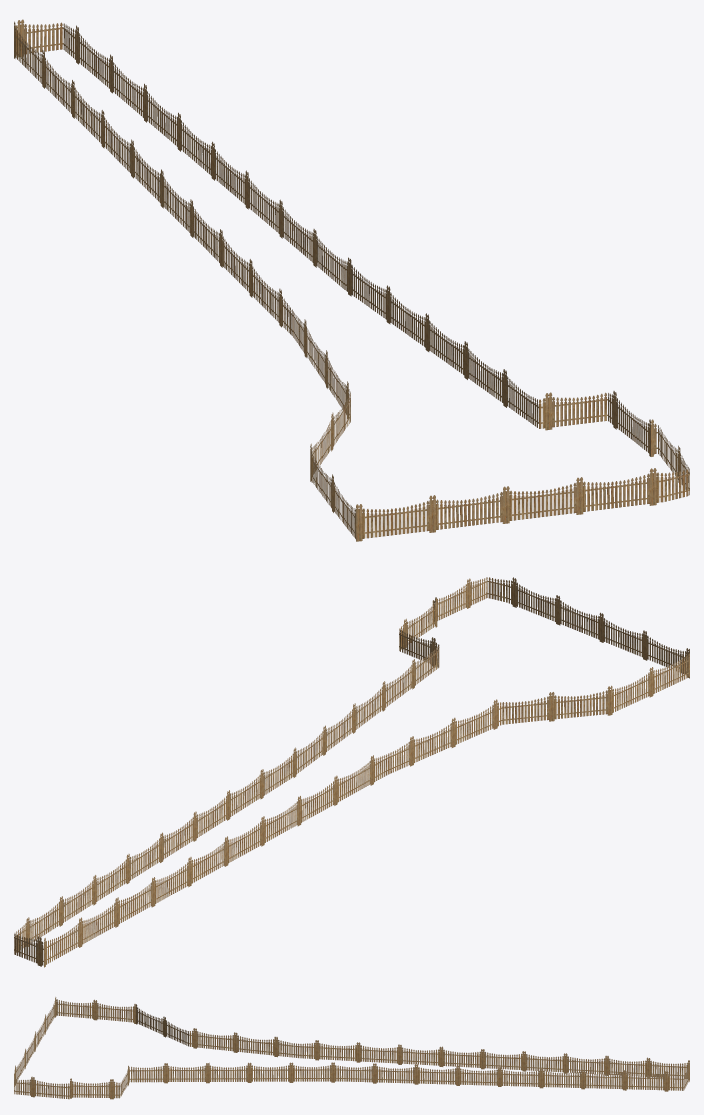
Rendered from fence1.dae.
3 renders of one model, top to bottom at view 1: azimuth 30°, elevation 25°; view 2: azimuth 150°, elevation 25°; view 3: azimuth 270°, elevation 25°, orthographic. The views are drawn at different scales.
Parts seen in each view (by area): view 1: MainNode; view 2: MainNode; view 3: MainNode.
Boxes of the visible parts, x1,y1,x2,y2 form: MainNode: (14, 19, 689, 541); MainNode: (14, 577, 689, 967); MainNode: (14, 997, 689, 1099).
Size of the model in its own units: 13.23 by 45.16 by 1.5.
Materials: 1 (1 with a texture image).
